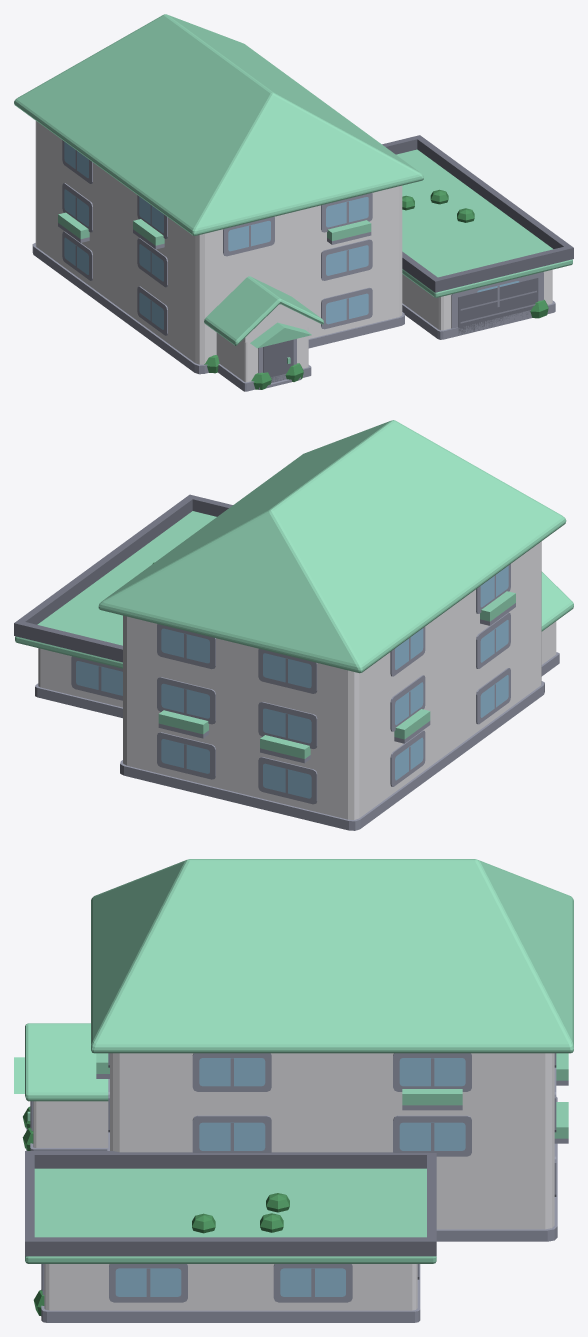
Rendered from house-2x2-3f-mansard-a.glb.
The picture shows the model from 3 angles, top to bottom: view 1: azimuth 30°, elevation 25°; view 2: azimuth 150°, elevation 25°; view 3: azimuth 270°, elevation 25°; orthographic projection. The views are drawn at different scales.
Parts seen in each view (by area): view 1: house-2x2-3f-mansard-a; view 2: house-2x2-3f-mansard-a; view 3: house-2x2-3f-mansard-a.
Part boxes in pixels (x1,y1,x2,y2): house-2x2-3f-mansard-a: (14,14,573,391); house-2x2-3f-mansard-a: (14,420,573,830); house-2x2-3f-mansard-a: (14,859,573,1322).
Size of the model in its own units: 2 by 1.26 by 2.04.
Materials: 1 (1 with a texture image).
